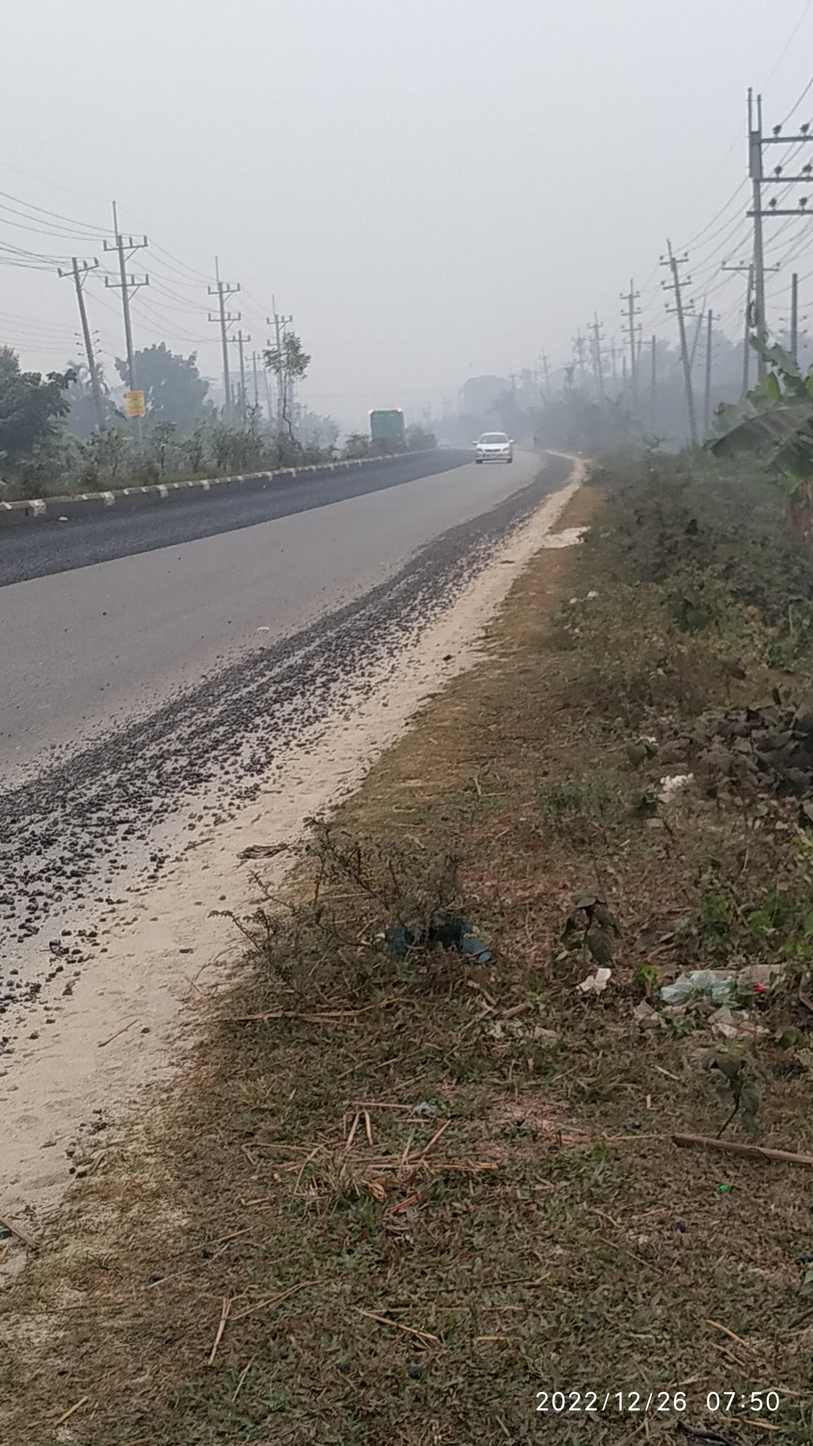Truck: (461, 405, 521, 477), (364, 401, 412, 462)
